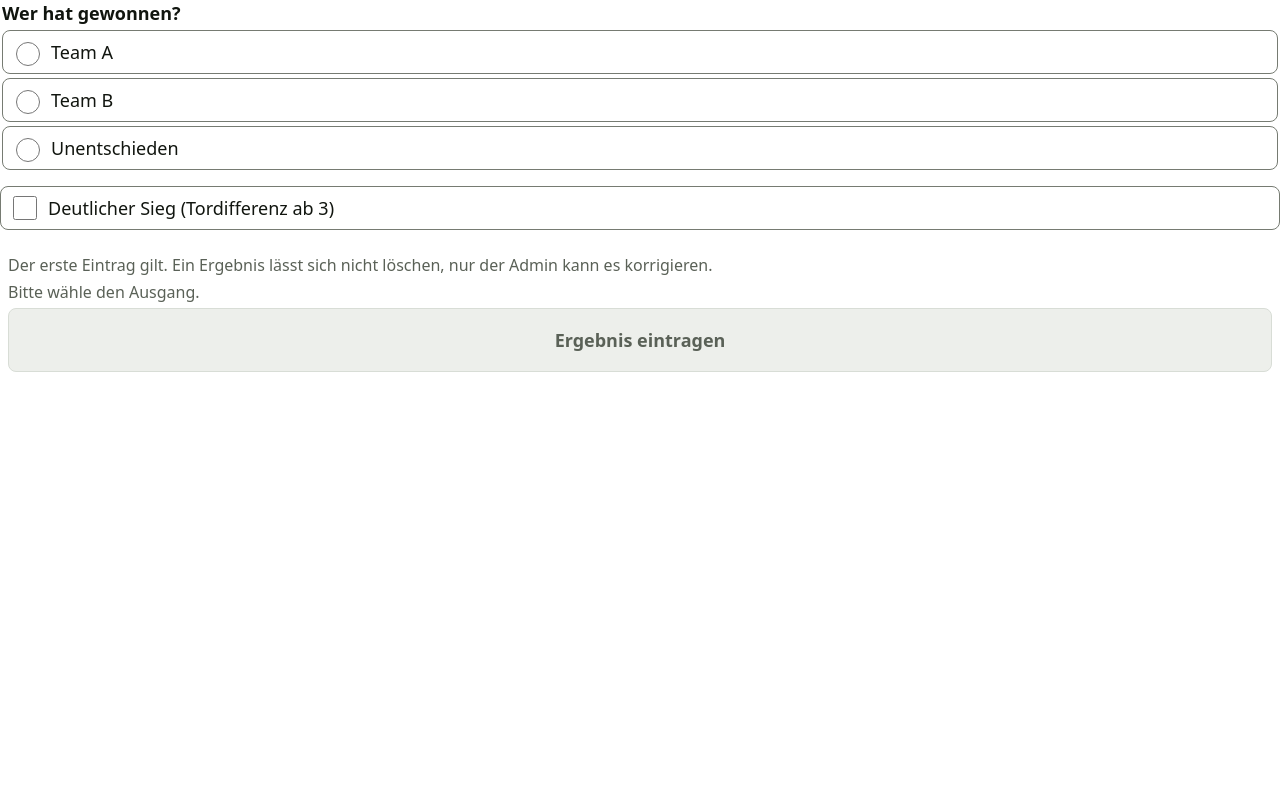
Test: ErgebnisFormular: Eintragen › zeigt jeden anderen Fehler als Meldung und erlaubt den naechsten Versuch
Click the radio button with test id "ergebnis-sieger-a": (28, 54) [16,42,40,66]
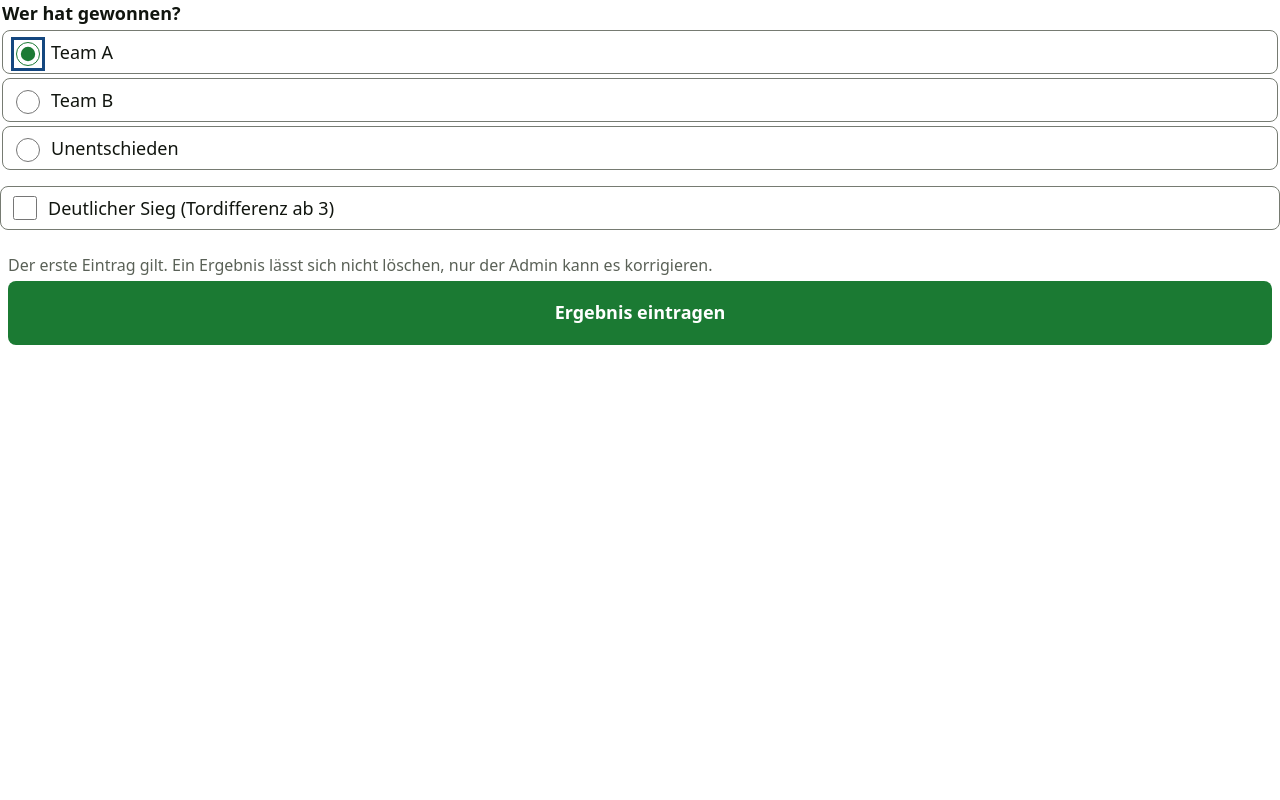
Click the button with test id "ergebnis-absenden": (640, 313) [8,281,1272,345]
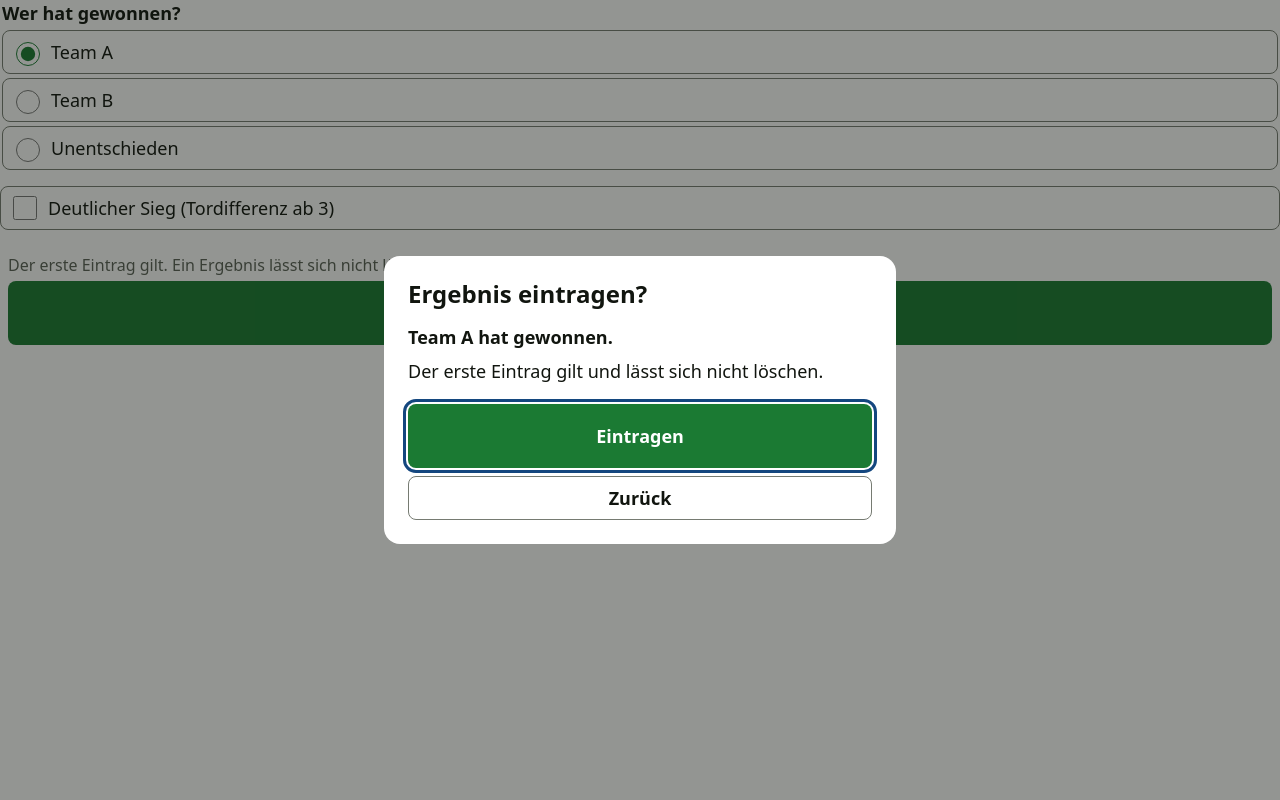
Click the button with test id "ergebnis-bestaetigen": (640, 436) [408,404,872,468]
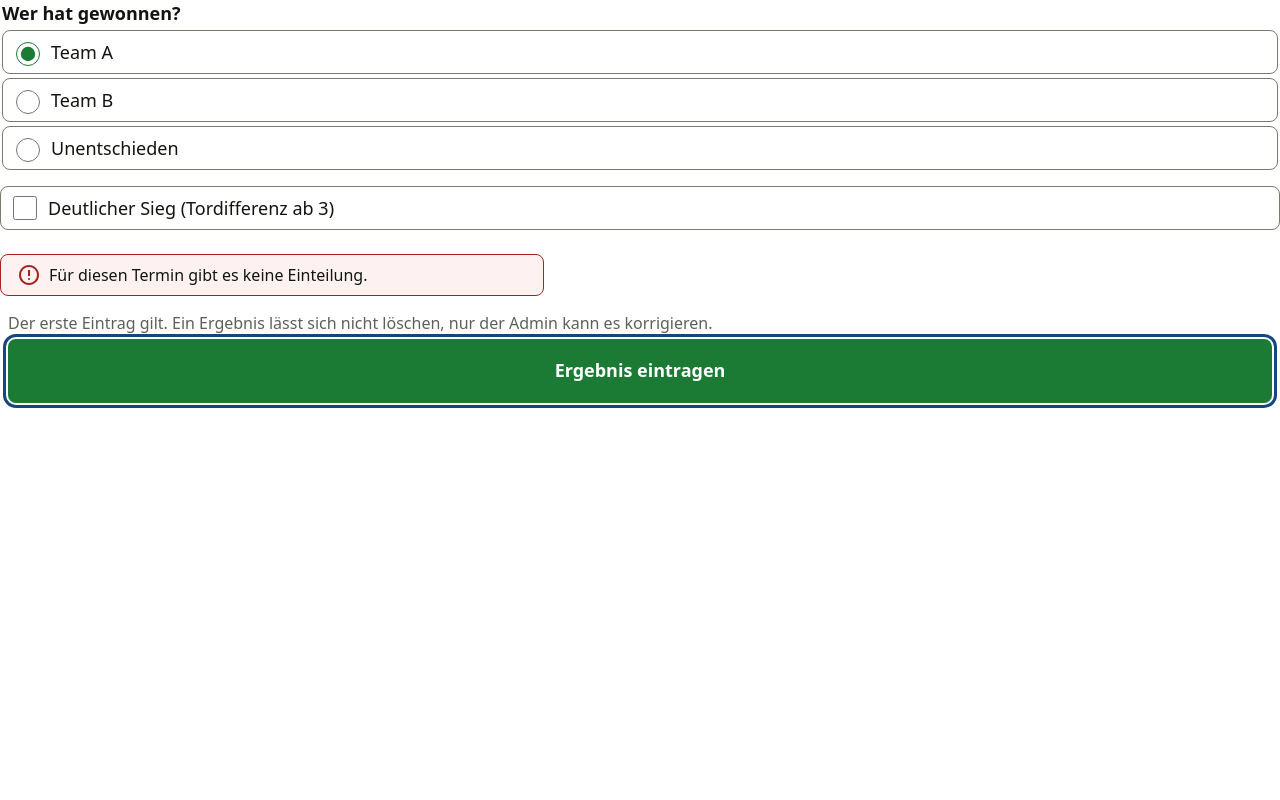
Expected: the message with test id "ergebnis-fehler" shows "keine Einteilung", [49,264,368,286]
